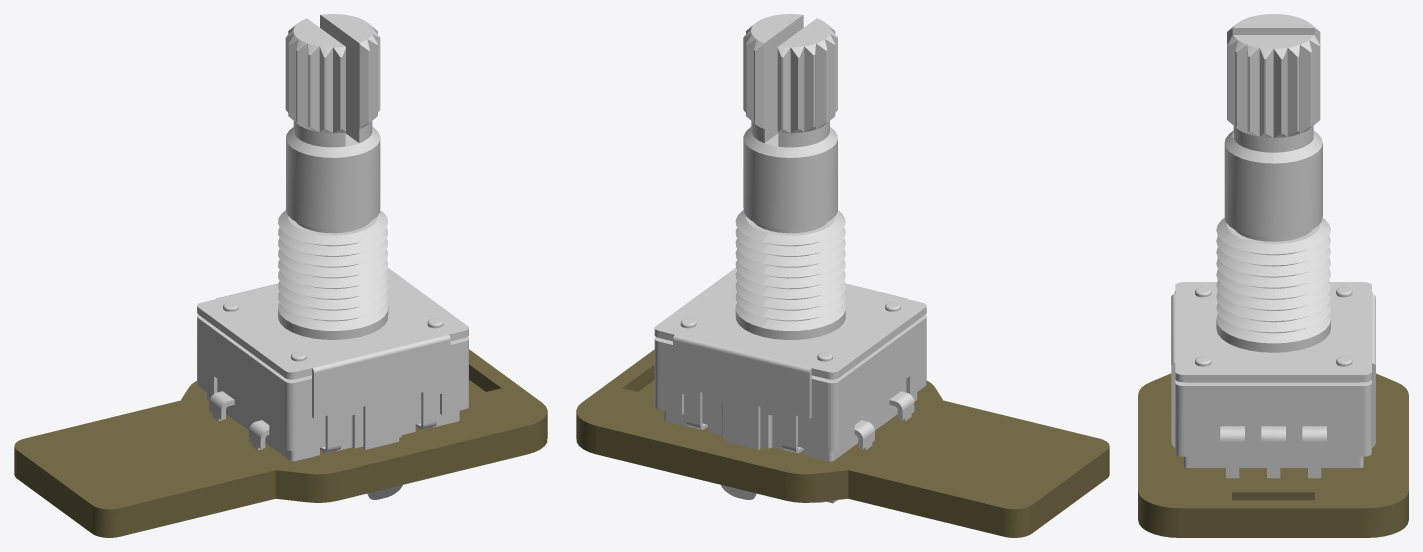
The model's file is ada-4964.glb.
3 views of the same model, side by side, from view 1: azimuth 30°, elevation 25°; view 2: azimuth 150°, elevation 25°; view 3: azimuth 270°, elevation 25° (orthographic). The views are drawn at different scales.
Parts seen in each view (by area): view 1: 0.75_0.75_0.75_0.85, 0.16666666666666666_0.16666666666666666_0.08333333333333333_; view 2: 0.75_0.75_0.75_0.85, 0.16666666666666666_0.16666666666666666_0.08333333333333333_; view 3: 0.75_0.75_0.75_0.85, 0.16666666666666666_0.16666666666666666_0.08333333333333333_.
Part boxes in pixels (<box>): 0.75_0.75_0.75_0.85: <box>197,14,468,499</box>; 0.16666666666666666_0.16666666666666666_0.08333333333333333_: <box>14,349,547,537</box>; 0.75_0.75_0.75_0.85: <box>654,14,926,499</box>; 0.16666666666666666_0.16666666666666666_0.08333333333333333_: <box>576,349,1109,537</box>; 0.75_0.75_0.75_0.85: <box>1171,14,1375,478</box>; 0.16666666666666666_0.16666666666666666_0.08333333333333333_: <box>1138,291,1408,537</box>.
Bounding box in the file's own units: 3.24 × 3.04 × 1.65.
